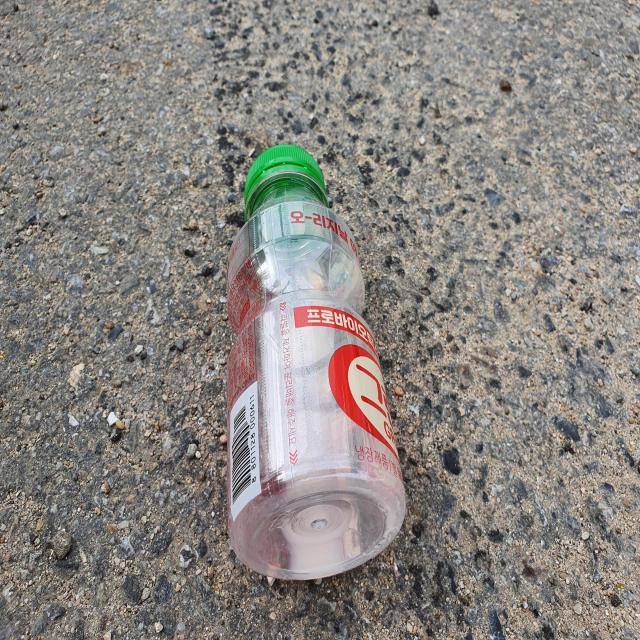plastic: (227, 144, 406, 580)
